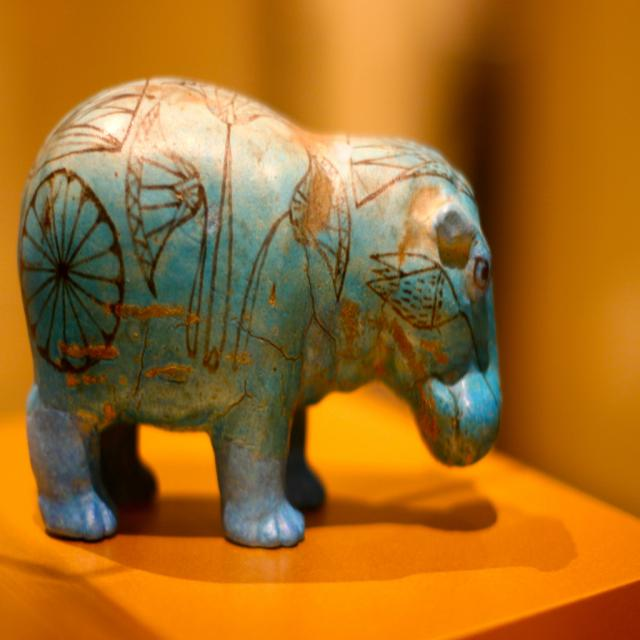elephant: (26, 64, 496, 562)
